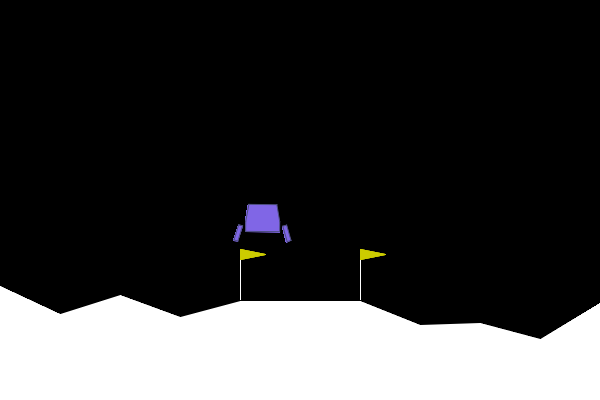lander: (232, 203, 292, 243)
